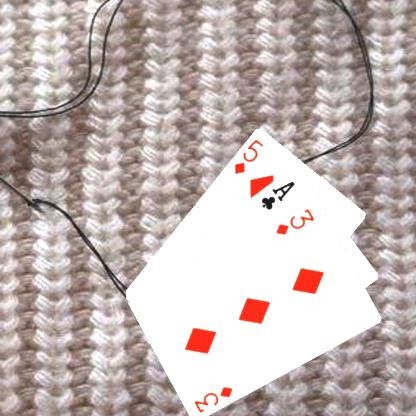3D: (191, 383, 235, 414), (273, 205, 316, 236)
5D: (231, 135, 265, 175)
AC: (258, 178, 297, 211)
